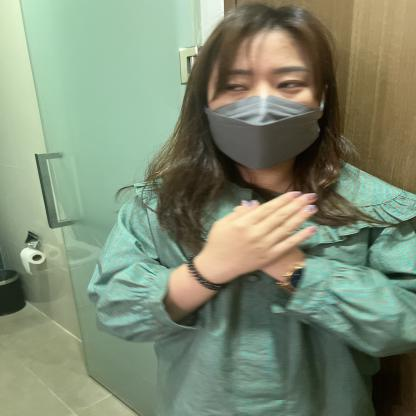Grieve: (117, 157, 363, 285)
